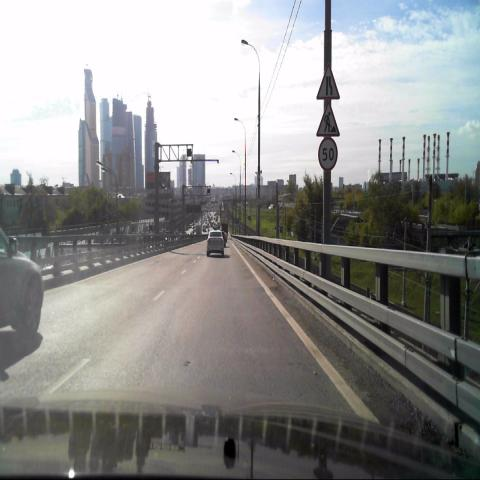1_20_2: (316, 62, 342, 101)
